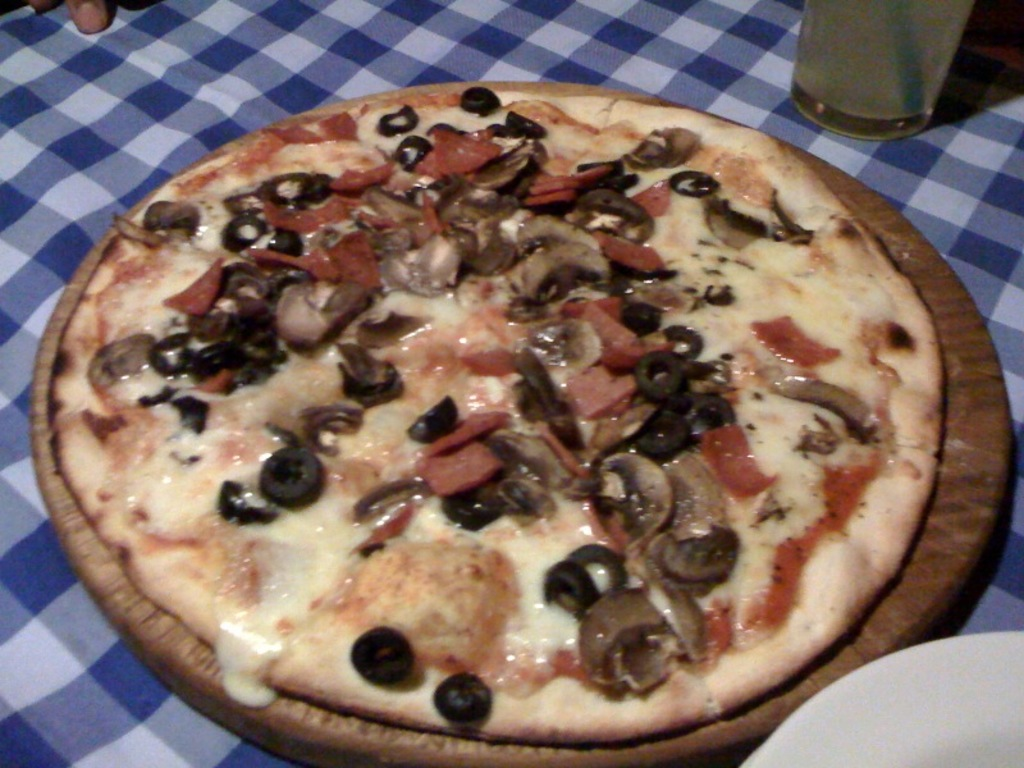Pizza: (42, 85, 943, 759)
